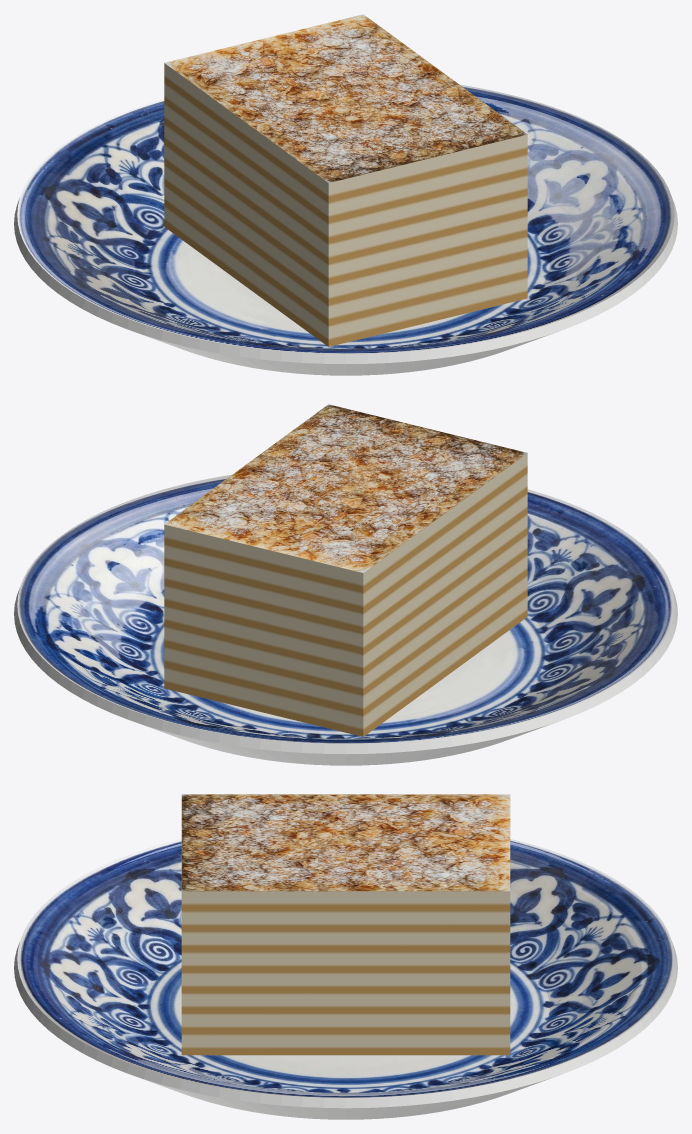
Rendered from napoleon.glb.
3 views of the same model, one above another, from view 1: azimuth 30°, elevation 25°; view 2: azimuth 150°, elevation 25°; view 3: azimuth 270°, elevation 25° (orthographic).
Parts seen in each view (by area): view 1: napoleon_0, napoleon_3, napoleon_2, napoleon_1; view 2: napoleon_0, napoleon_3, napoleon_2, napoleon_1; view 3: napoleon_0, napoleon_3, napoleon_2, napoleon_1.
Boxes of the visible parts, x1,y1,x2,y2 form: napoleon_0: [17, 84, 674, 353]; napoleon_3: [164, 63, 527, 346]; napoleon_2: [164, 14, 527, 182]; napoleon_1: [14, 198, 677, 375]; napoleon_0: [17, 474, 674, 743]; napoleon_3: [164, 453, 527, 736]; napoleon_2: [164, 404, 527, 572]; napoleon_1: [14, 588, 677, 765]; napoleon_0: [17, 838, 674, 1097]; napoleon_3: [181, 891, 510, 1055]; napoleon_2: [181, 794, 510, 891]; napoleon_1: [14, 942, 677, 1119].
Bounding box in the file's own units: 0.202 × 0.061 × 0.202.
Materials: 4 (3 with a texture image).
